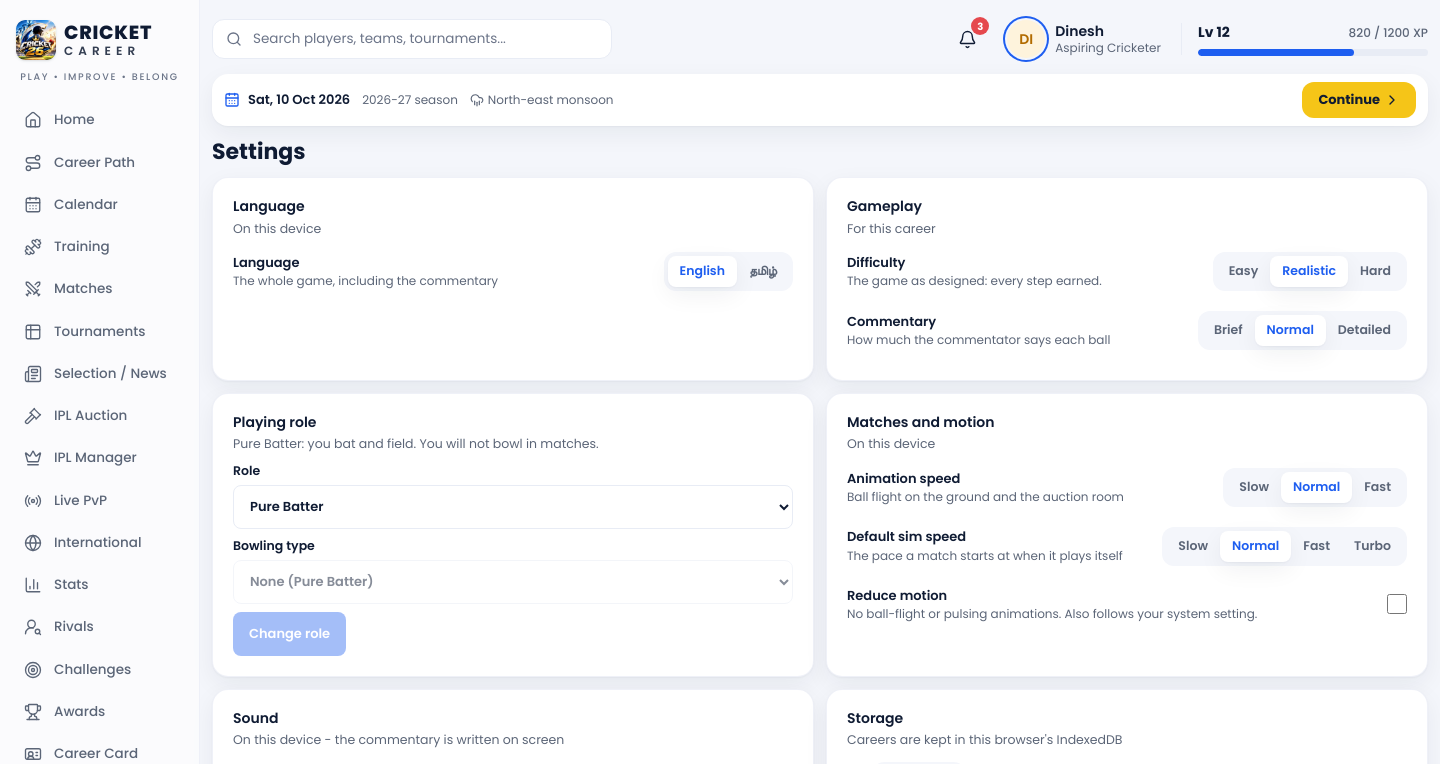
Test: switching language › Settings > Language switches the whole frame at once, and is remembered
The width and height of the screenshot is (1440, 764).
Expected: the heading "Settings" is shown, left=212, top=136, right=306, bottom=166
Step 1. Click the radio button labelled "தமிழ்" → coordinates (763, 272), box left=737, top=256, right=789, bottom=287
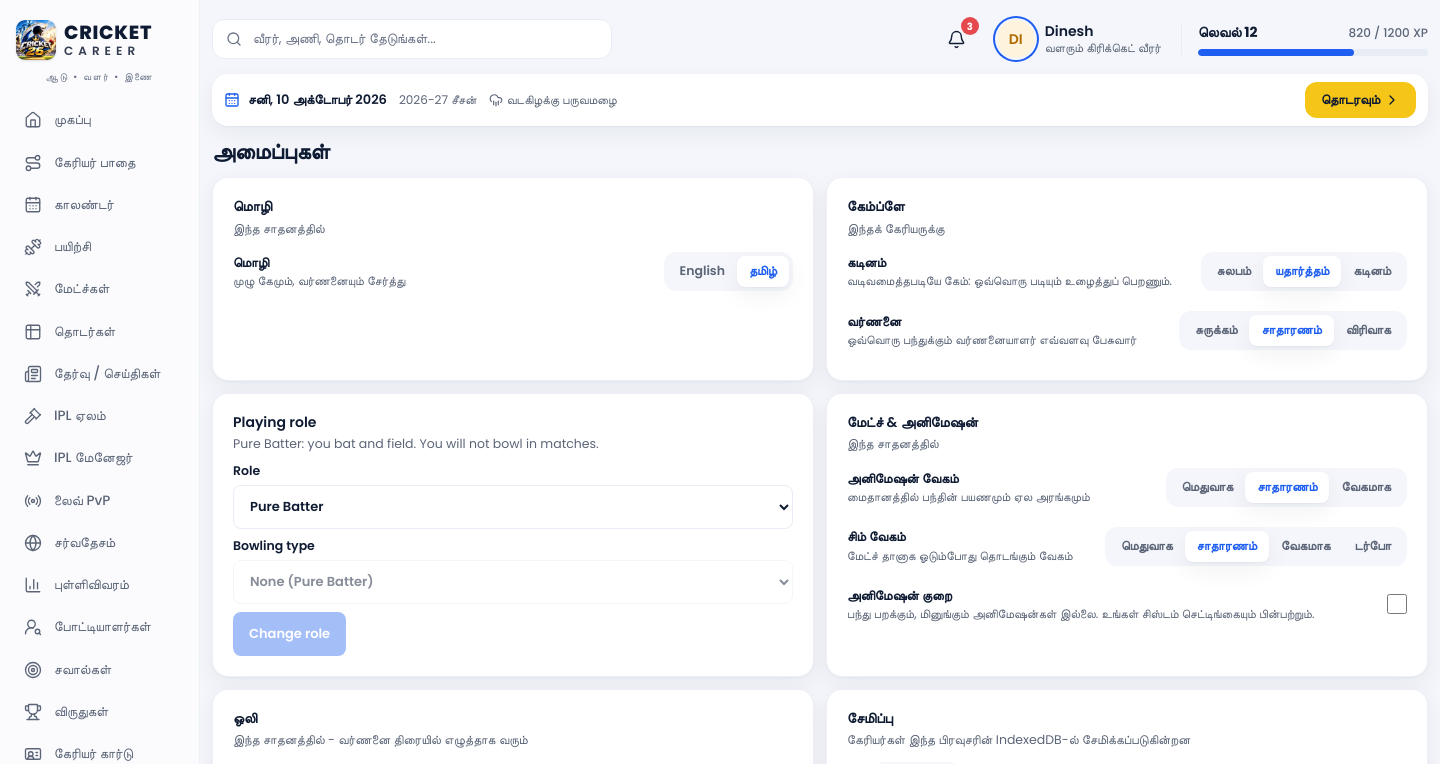
Now the heading "அமைப்புகள்" is shown, box left=212, top=136, right=330, bottom=166
Step 2. Click the radio button labelled "English" → coordinates (702, 272), box left=668, top=256, right=737, bottom=287
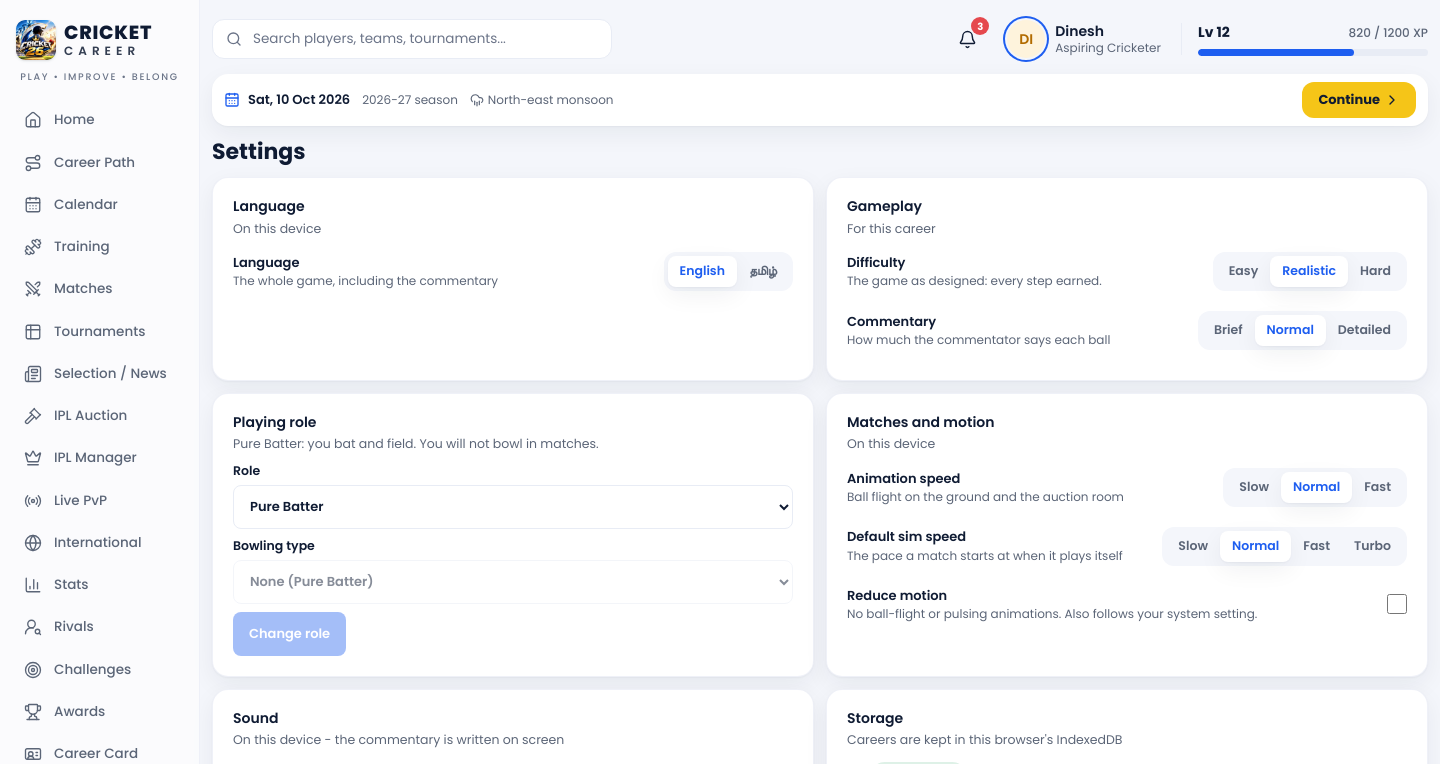
Now the heading "Settings" is shown, box left=212, top=136, right=306, bottom=166
